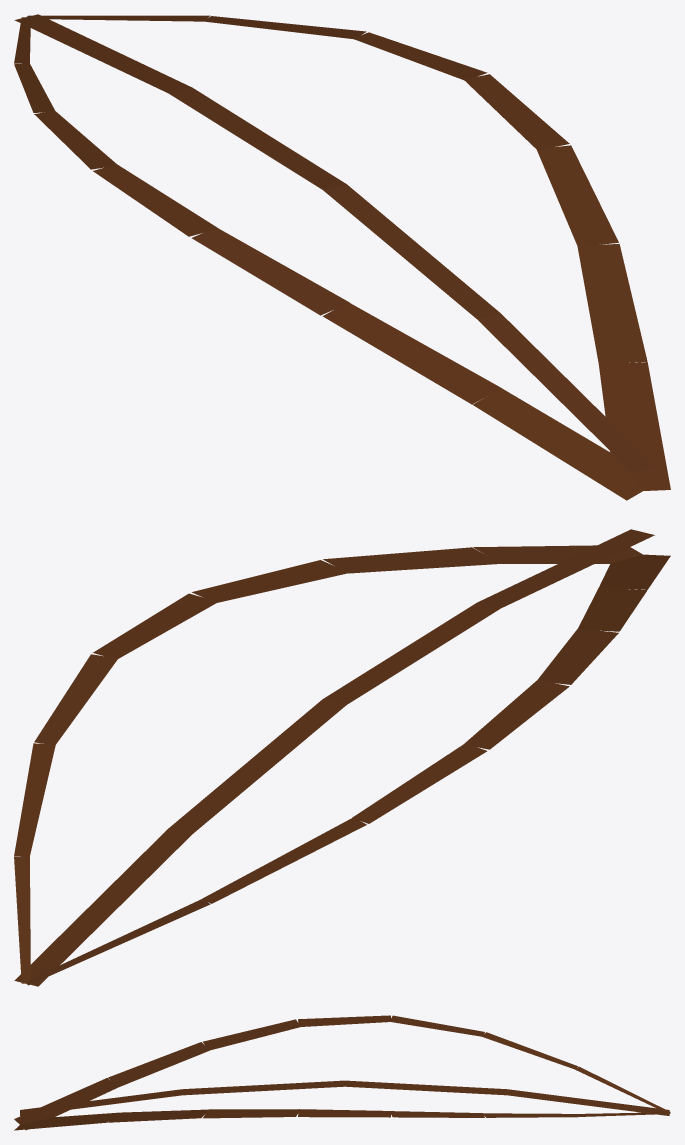
The picture shows the model from 3 angles, top to bottom: view 1: azimuth 30°, elevation 25°; view 2: azimuth 150°, elevation 25°; view 3: azimuth 270°, elevation 25°; orthographic projection. The views are drawn at different scales.
Visible parts, largest first — view 1: IL3DN_Dead_Leaf_01_LOD0; view 2: IL3DN_Dead_Leaf_01_LOD0; view 3: IL3DN_Dead_Leaf_01_LOD0.
Part boxes in pixels (x1=…): IL3DN_Dead_Leaf_01_LOD0: x1=14, y1=14, x2=670, y2=500; IL3DN_Dead_Leaf_01_LOD0: x1=14, y1=529, x2=670, y2=986; IL3DN_Dead_Leaf_01_LOD0: x1=14, y1=1015, x2=670, y2=1130.
Bounding box in the file's own units: 74.34 × 19.83 × 202.
